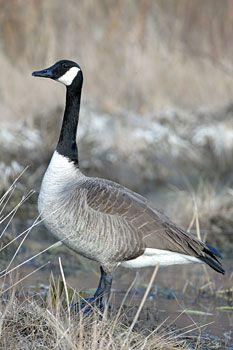Canadian-Goose: (31, 60, 226, 310)
